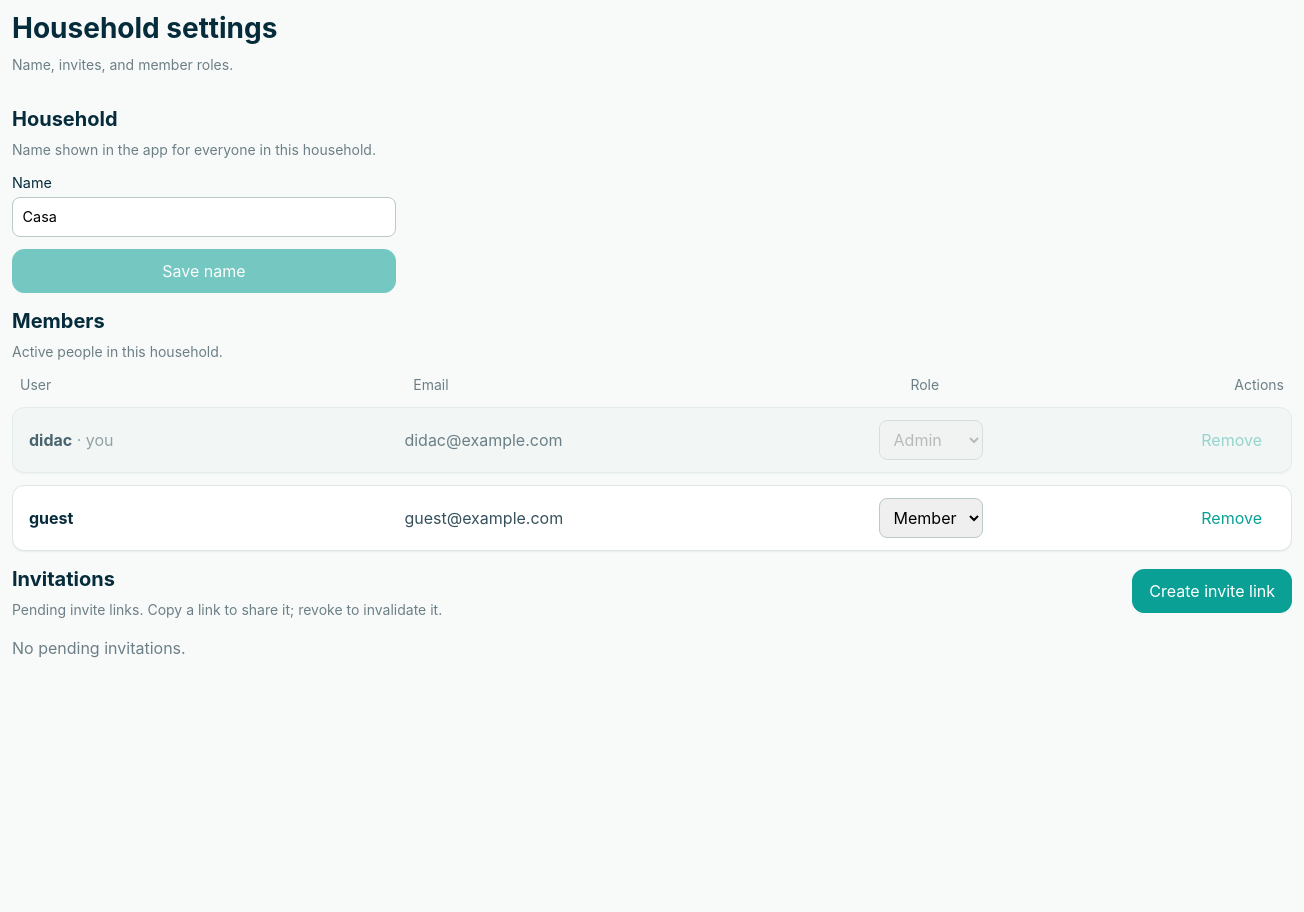
it: HouseholdMembersPage › shows create-invitation API failures
Expected: the field showing "Casa" is shown, [12,197,396,237]
Click the button "Create invite link" at (1212, 591), box [1132,569,1292,613]
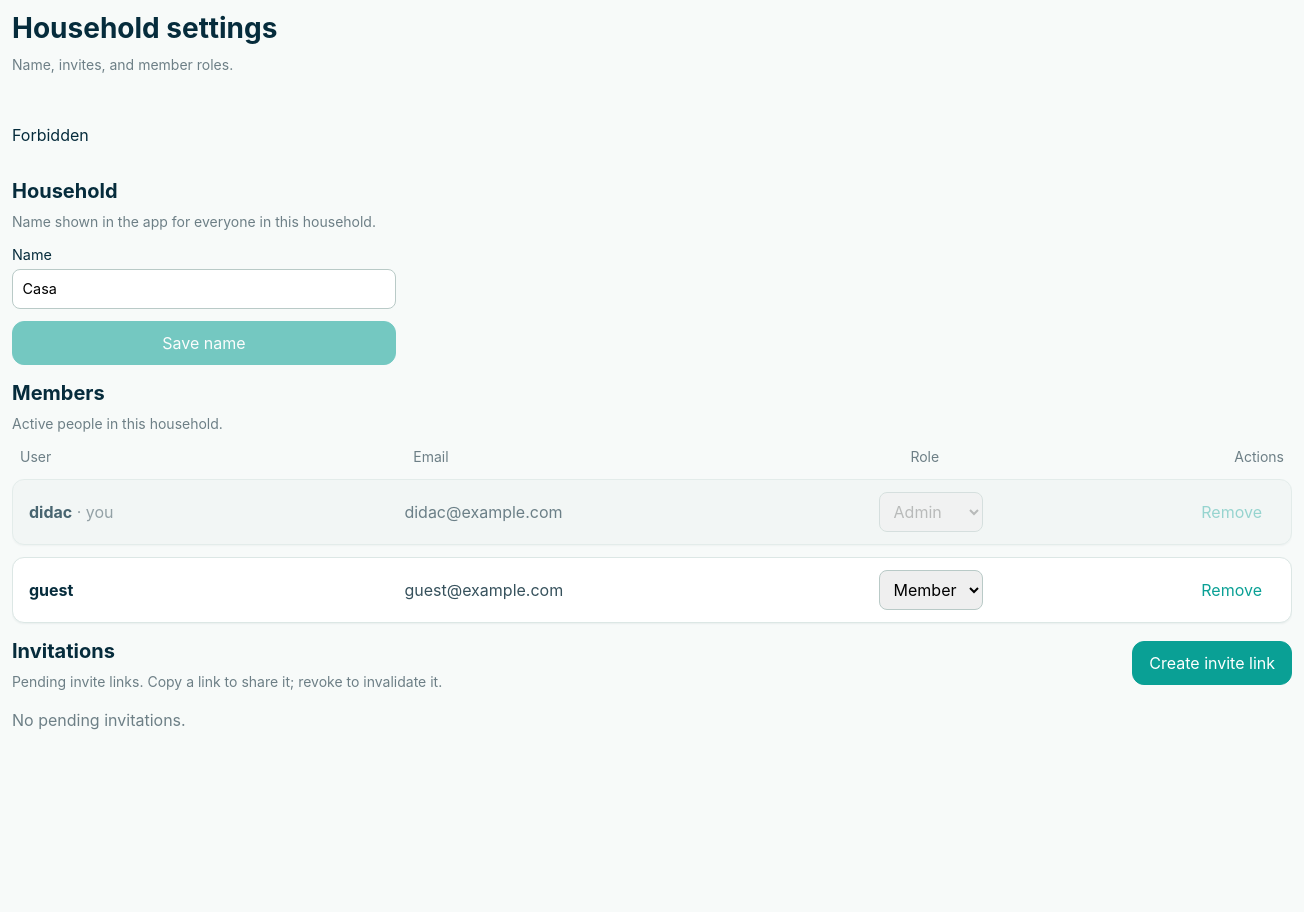
Expected: the text "Forbidden" is shown, [12,125,89,145]
